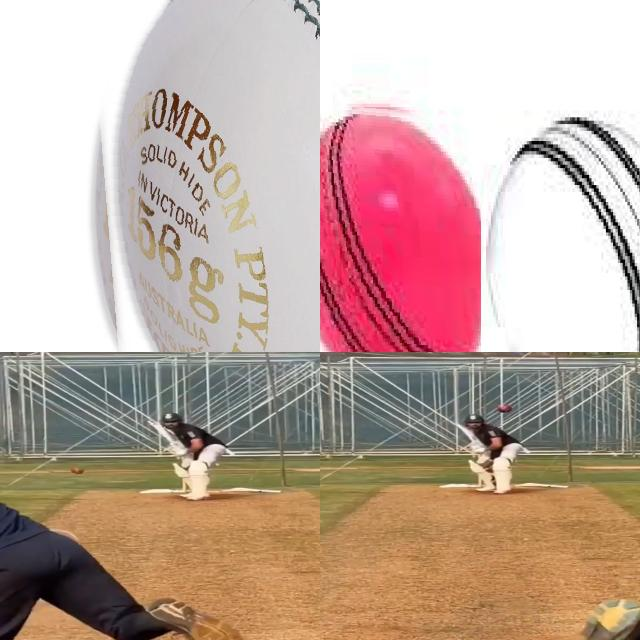Cricket ball: (83, 0, 320, 352), (320, 100, 481, 352), (484, 98, 640, 352), (497, 403, 513, 414), (70, 466, 86, 474)
